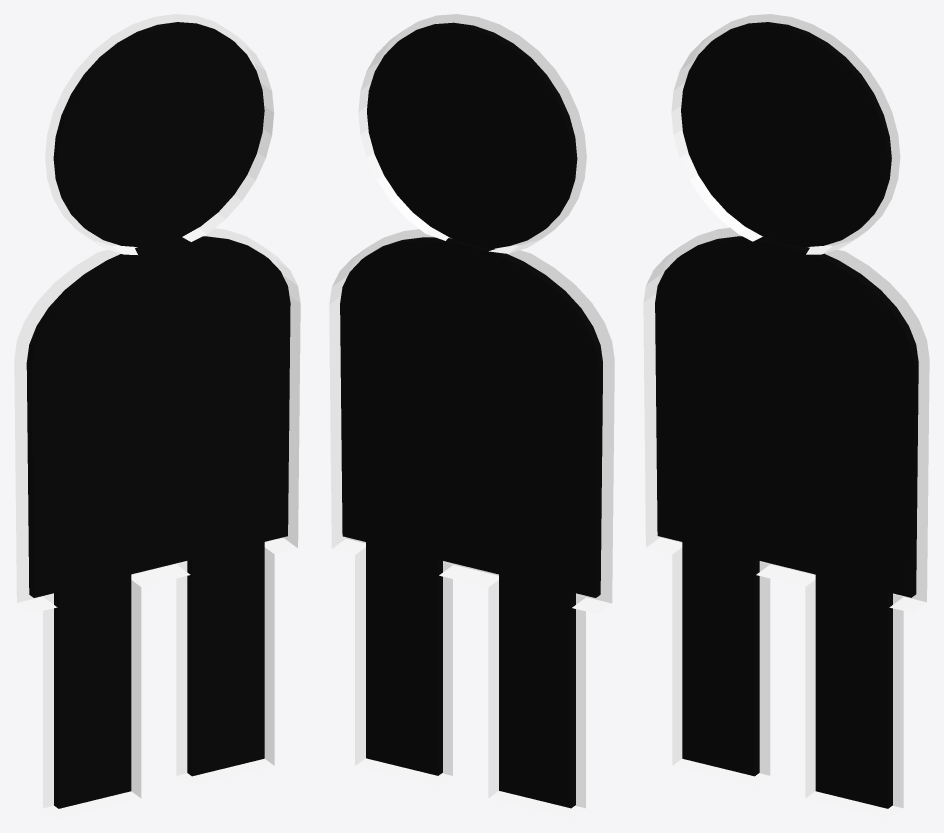
Rendered from bendyTutorial.glb.
3 views of the same model, side by side, from view 1: azimuth 30°, elevation 25°; view 2: azimuth 150°, elevation 25°; view 3: azimuth 330°, elevation 25° (orthographic).
Parts seen in each view (by area): view 1: bendy; view 2: bendy; view 3: bendy.
Boxes of the visible parts, <box> form: bendy: <box>14,14,300,818</box>; bendy: <box>329,14,614,818</box>; bendy: <box>643,14,929,818</box>.
Size of the model in its own units: 0.6756 by 1.82 by 0.0623.
1 material, 1 textured.
